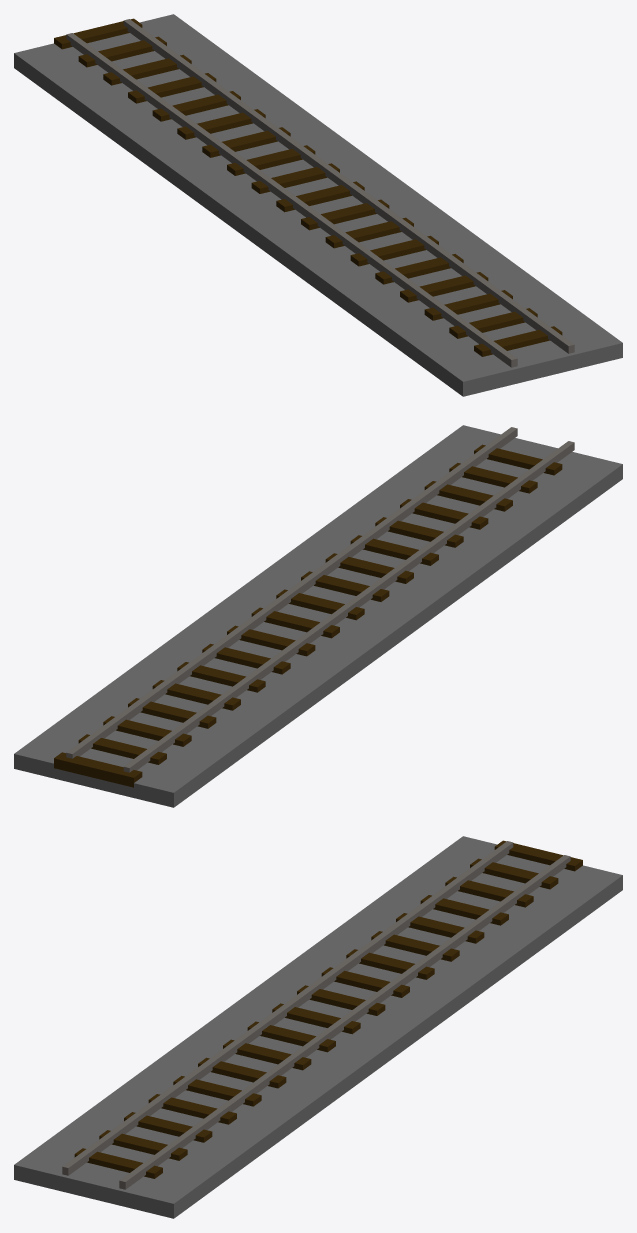
File: Rails.fbx
The picture shows the model from 3 angles, top to bottom: view 1: azimuth 30°, elevation 25°; view 2: azimuth 150°, elevation 25°; view 3: azimuth 330°, elevation 25°; orthographic projection.
Parts seen in each view (by area): view 1: pCube28, pCube3, pCube2, pCube19, pCube25, pCube22, pCube15, pCube14, pCube18, pCube11, pCube24, pCube21 (+9 smaller); view 2: pCube28, pCube3, pCube2, pCube19, pCube16, pCube13, pCube24, pCube12, pCube21, pCube27, pCube25, pCube17 (+9 smaller); view 3: pCube28, pCube2, pCube3, pCube19, pCube25, pCube22, pCube15, pCube14, pCube18, pCube11, pCube24, pCube21 (+9 smaller).
Part boxes in pixels (box(x1,y1,x2,y2)): pCube28: box(14, 14, 622, 396); pCube3: box(123, 19, 574, 353); pCube2: box(66, 33, 517, 367); pCube19: box(54, 18, 142, 49); pCube25: box(424, 290, 512, 320); pCube22: box(350, 235, 438, 266); pCube15: box(152, 91, 240, 121); pCube14: box(177, 109, 265, 139); pCube18: box(78, 36, 166, 67); pCube11: box(251, 163, 339, 193); pCube24: box(400, 272, 488, 302); pCube21: box(325, 217, 413, 248); pCube28: box(14, 425, 622, 807); pCube3: box(66, 427, 517, 758); pCube2: box(123, 441, 574, 772); pCube19: box(54, 752, 142, 787); pCube16: box(128, 698, 216, 728); pCube13: box(202, 643, 290, 674); pCube24: box(400, 499, 488, 529); pCube12: box(227, 625, 315, 656); pCube21: box(325, 553, 413, 583); pCube27: box(474, 444, 562, 475); pCube25: box(424, 481, 512, 511); pCube17: box(103, 716, 191, 746); pCube28: box(14, 836, 622, 1218); pCube2: box(62, 841, 513, 1175); pCube3: box(119, 855, 570, 1189); pCube19: box(494, 840, 582, 871); pCube25: box(124, 1112, 212, 1142); pCube22: box(198, 1057, 286, 1088); pCube15: box(396, 913, 484, 943); pCube14: box(371, 931, 459, 961); pCube18: box(470, 858, 558, 889); pCube11: box(297, 985, 385, 1015); pCube24: box(148, 1094, 236, 1124); pCube21: box(223, 1039, 311, 1070).
Size of the model in its own units: 11.2 by 1.67 by 54.5.
